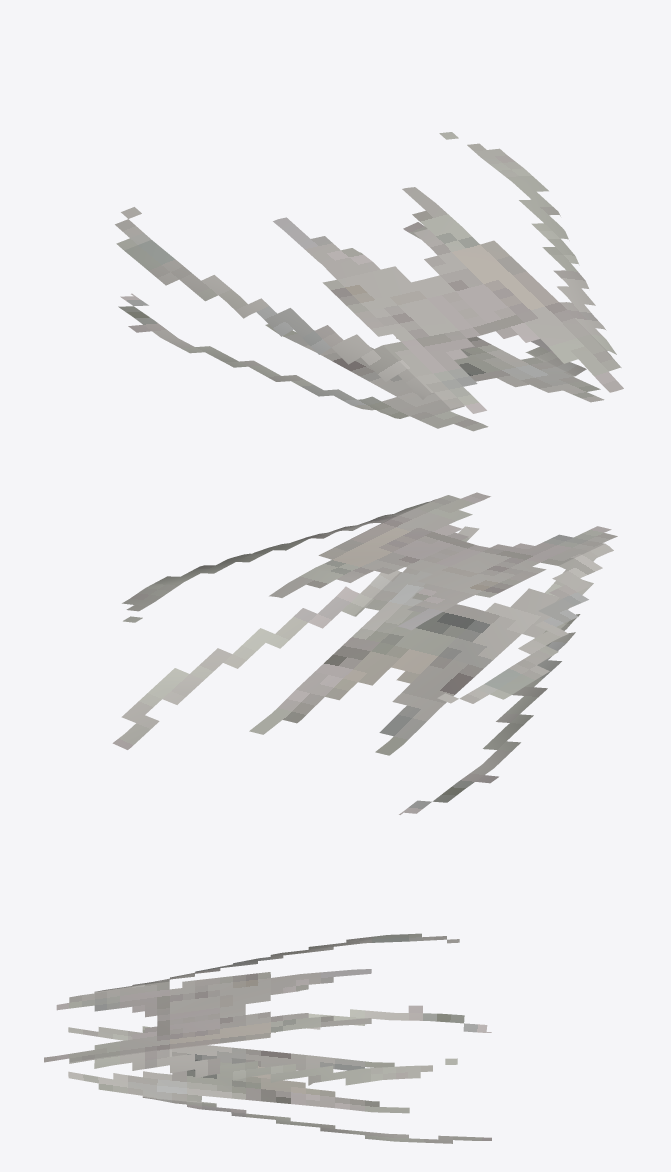
File: awing_body_l3.fbx
3 renders of one model, top to bottom at view 1: azimuth 30°, elevation 25°; view 2: azimuth 150°, elevation 25°; view 3: azimuth 270°, elevation 25°, orthographic. The views are drawn at different scales.
Parts seen in each view (by area): view 1: mesh_node; view 2: mesh_node; view 3: mesh_node.
Boxes of the visible parts, x1,y1,x2,y2 form: mesh_node: [115, 132, 623, 431]; mesh_node: [112, 492, 617, 814]; mesh_node: [44, 933, 491, 1143].
Size of the model in its own units: 8.24 by 2.85 by 11.64.
1 material, 1 textured.
